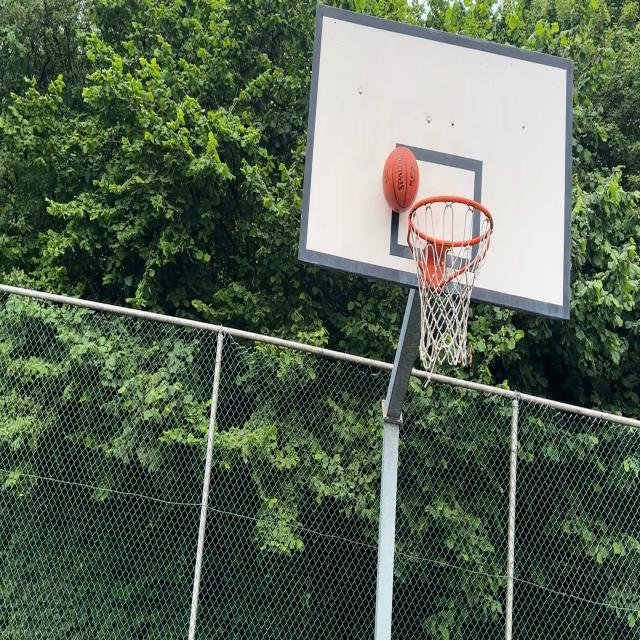rebound_hit: (382, 145, 420, 218)
